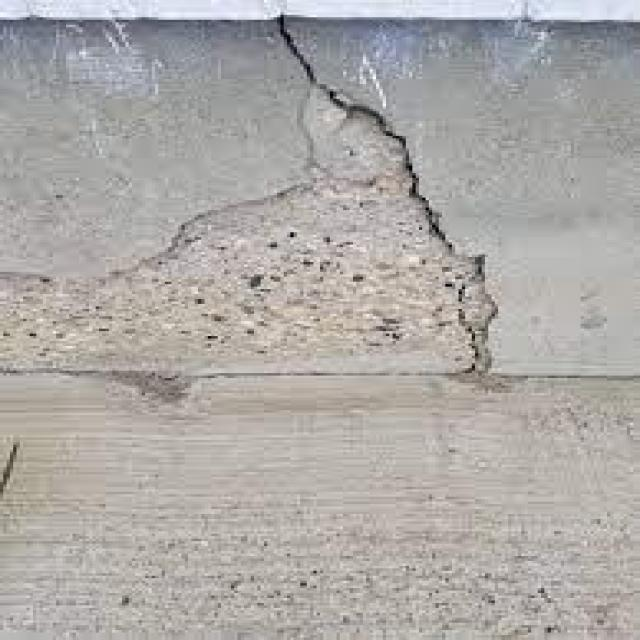Crack: (402, 156, 502, 370), (271, 32, 409, 143)
